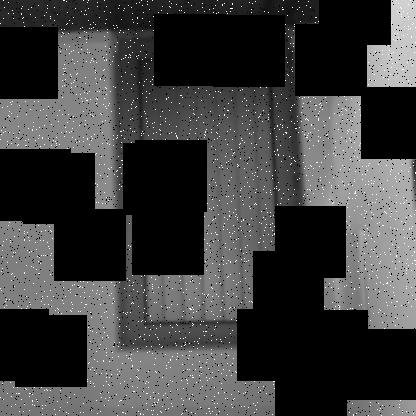Porte: (116, 34, 314, 347)
